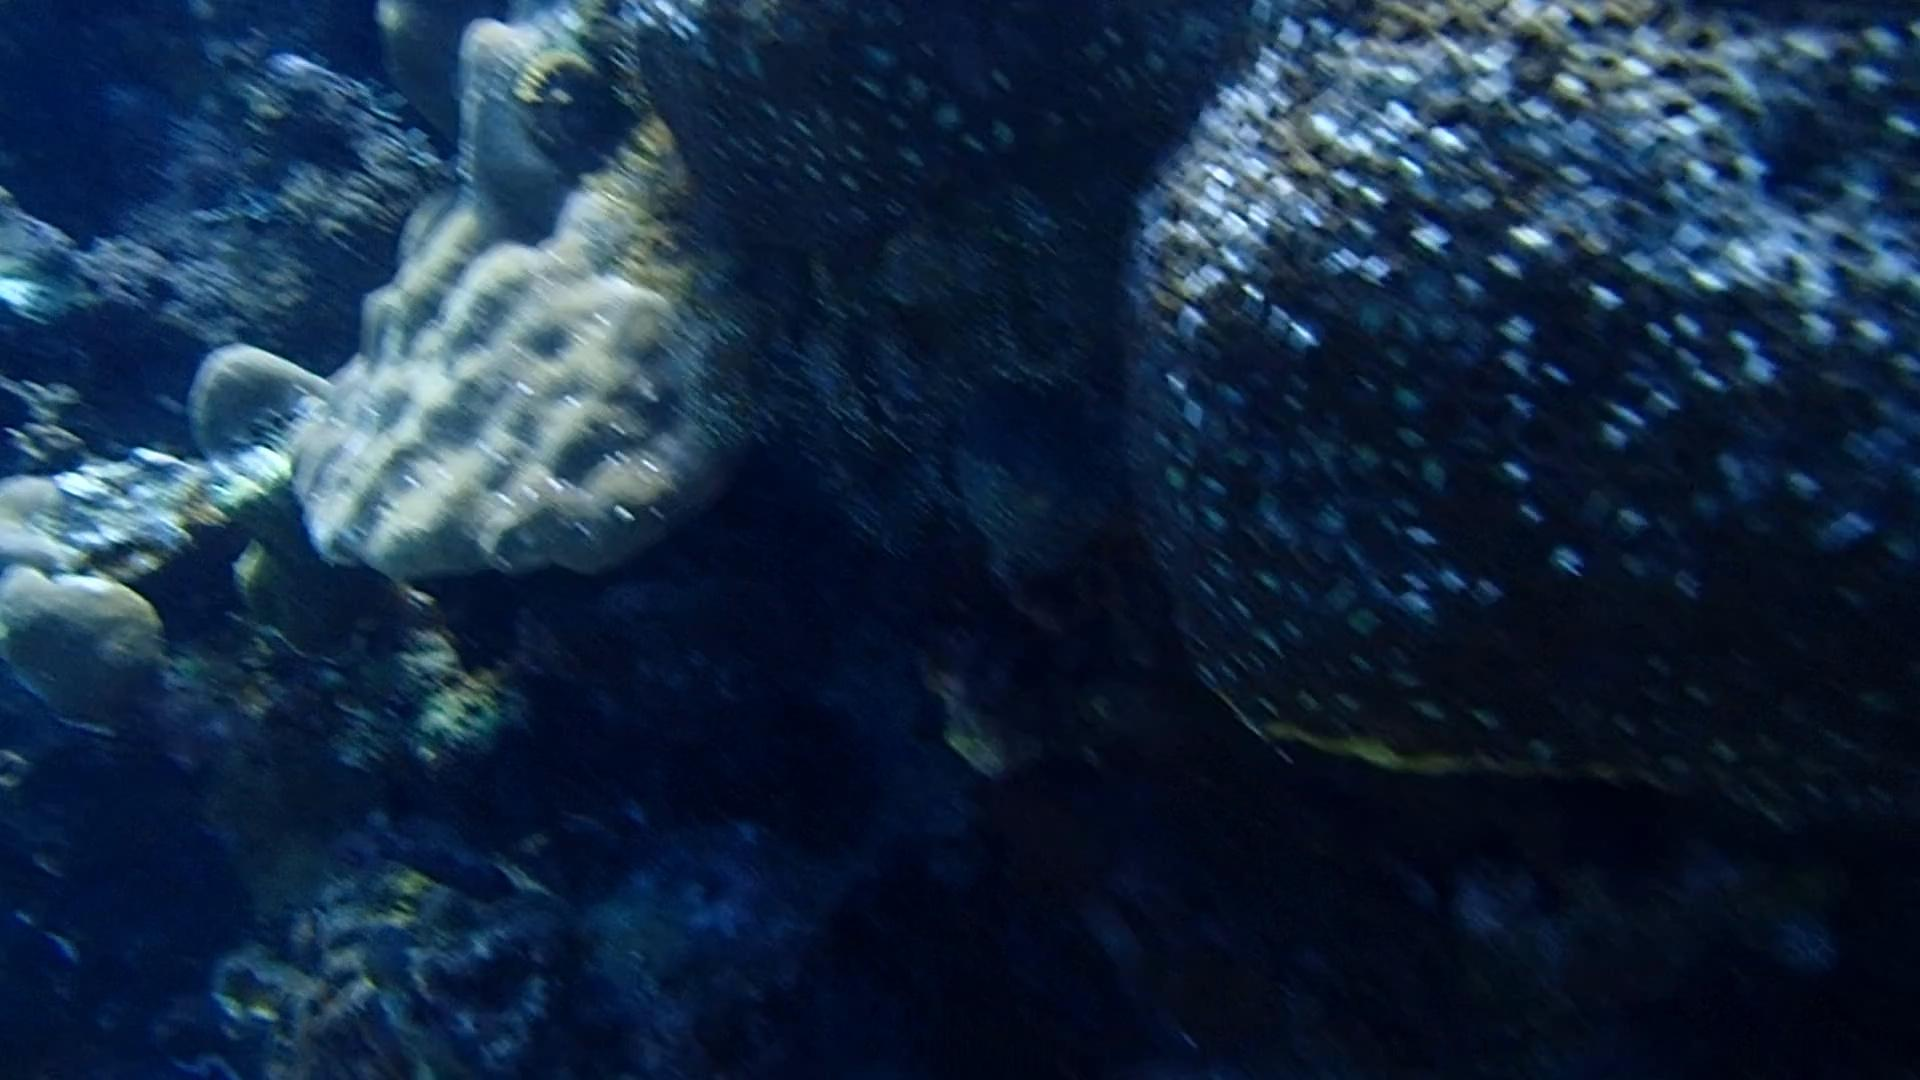Dark Fish: (257, 98, 375, 189)
